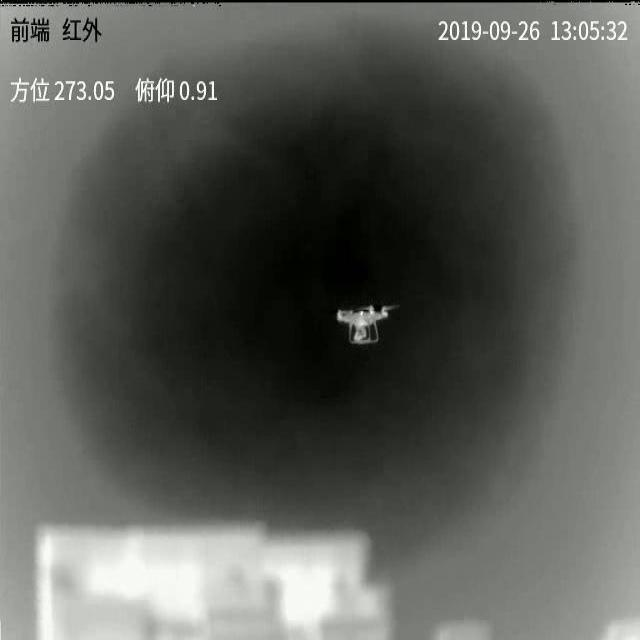drone: (336, 306, 394, 346)
